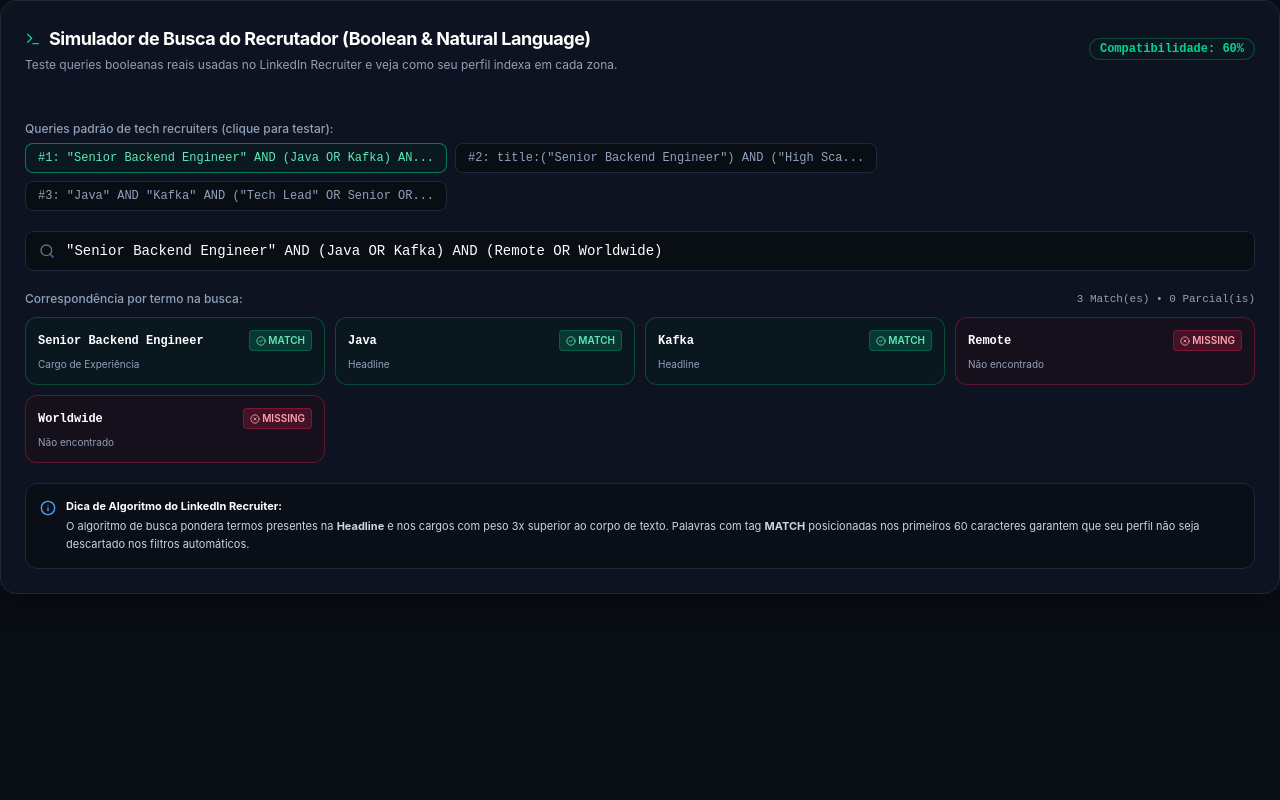
Scenario: RecruiterSearchSimulator Component › matches hyphenated "high-scale" in experience when recruiter searches for "High Scale"
Replace the text in the field with placeholder "Ex: \"Senior Backend Engineer\" AND (Java OR Go) AND Kafka" with "\"High Scale\"" at (640, 251), box [25,231,1255,271]
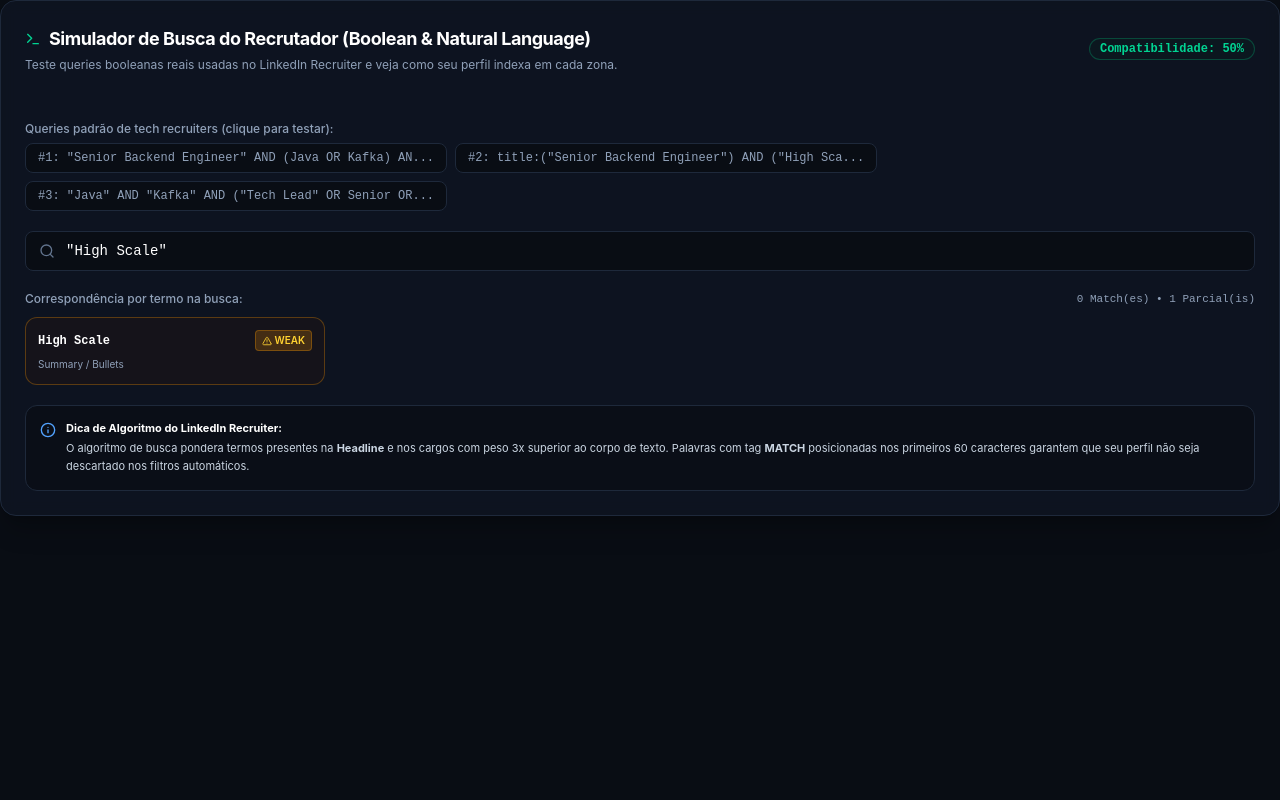
expect the text "High Scale" is shown: met, box [38,332,110,348]
expect the text "0 Match(es) • 1 Parcial(is)" is shown: met, box [1077,292,1255,306]
expect the text "WEAK" is shown: met, box [255,330,312,351]
